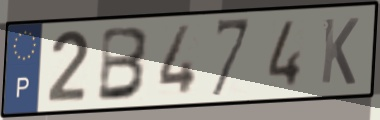2: (45, 27, 94, 107)
4: (155, 22, 200, 98), (265, 18, 305, 91)
7: (209, 17, 254, 100)
B: (95, 24, 153, 104)
K: (318, 15, 361, 87)
